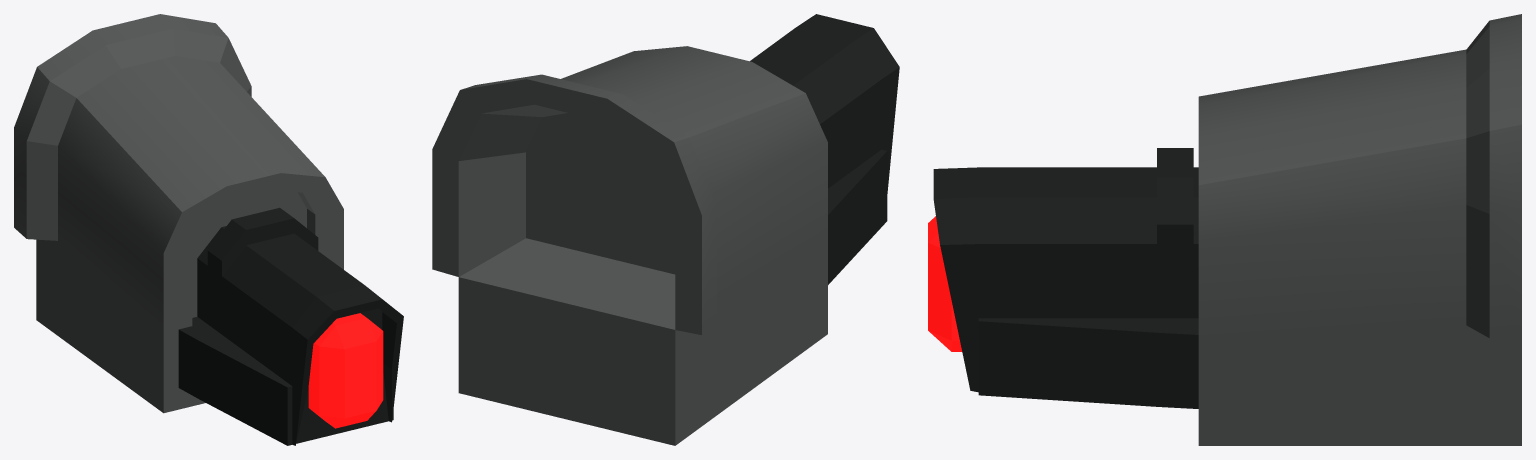
The model's file is Body.gltf.
3 renders of one model, left to right at view 1: azimuth 30°, elevation 25°; view 2: azimuth 150°, elevation 25°; view 3: azimuth 270°, elevation 25°, orthographic. The views are drawn at different scales.
Visible parts, largest first — view 1: Body; view 2: Body; view 3: Body.
Boxes of the visible parts, x1,y1,x2,y2 form: Body: (14,14,403,445); Body: (432,14,899,445); Body: (928,14,1521,445).
Bounding box in the file's own units: 0.3216 × 0.3769 × 0.5798.
Materials: 1 (1 with a texture image).
